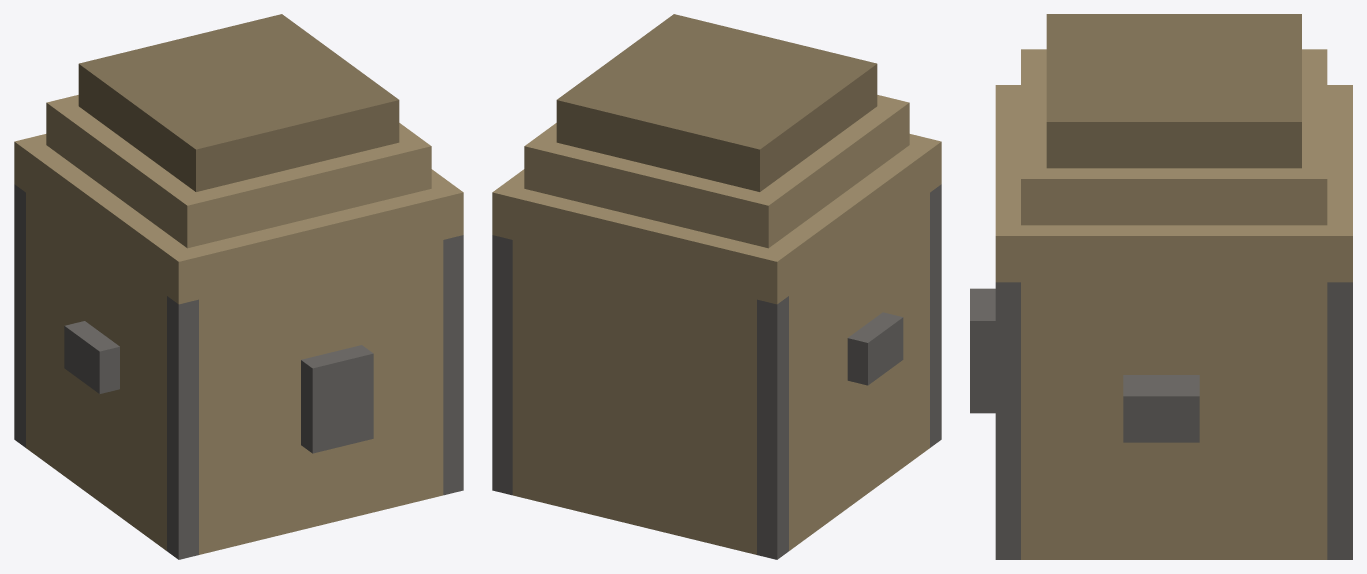
The model's file is baul_tesoro_tejo_01.glb.
The picture shows the model from 3 angles, left to right: view 1: azimuth 30°, elevation 25°; view 2: azimuth 150°, elevation 25°; view 3: azimuth 270°, elevation 25°; orthographic projection. The views are drawn at different scales.
Visible parts, largest first — view 1: baul_tesoro_tejo; view 2: baul_tesoro_tejo; view 3: baul_tesoro_tejo.
Boxes of the visible parts, <box> form: baul_tesoro_tejo: <box>14,14,463,559</box>; baul_tesoro_tejo: <box>492,14,941,559</box>; baul_tesoro_tejo: <box>970,14,1352,559</box>.
Size of the model in its own units: 1.21 by 1.29 by 1.07.
